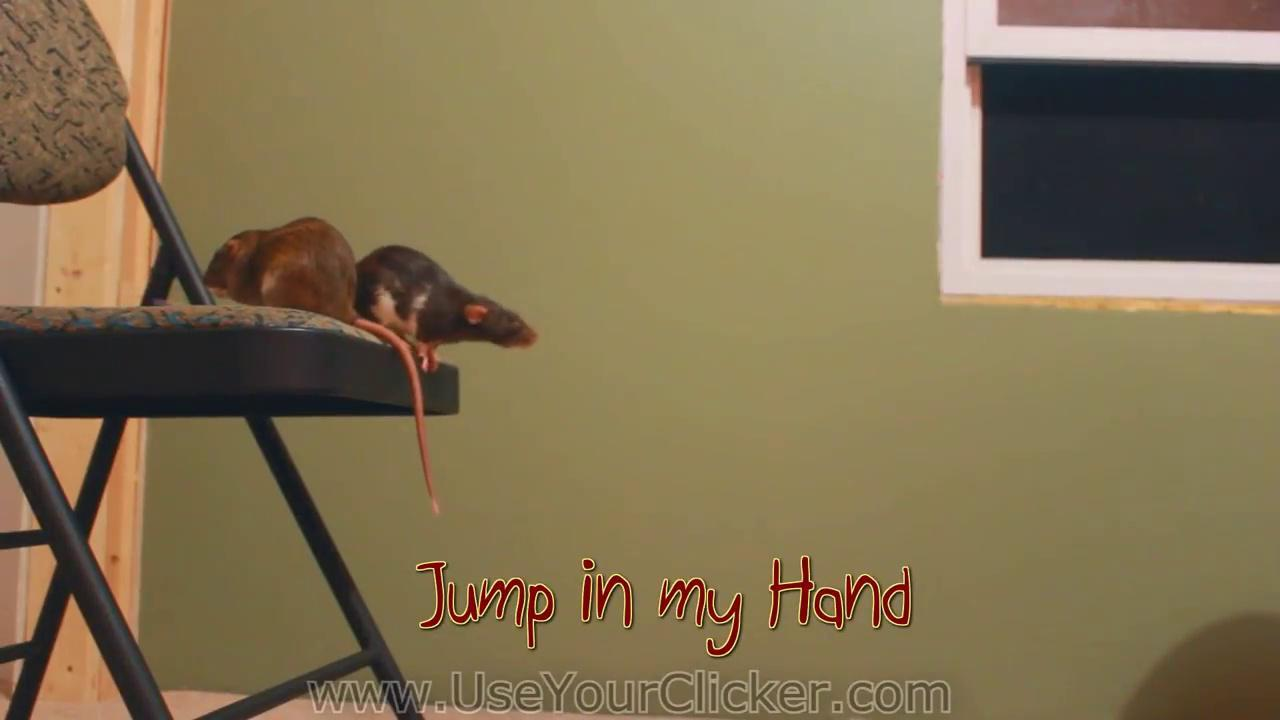rat: (206, 216, 440, 514), (358, 244, 536, 368)
